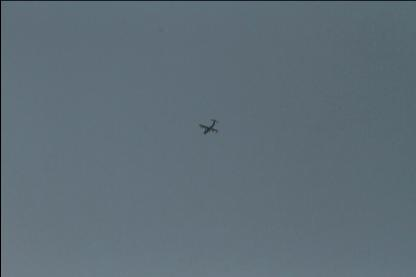Tu95: (197, 119, 217, 134)
